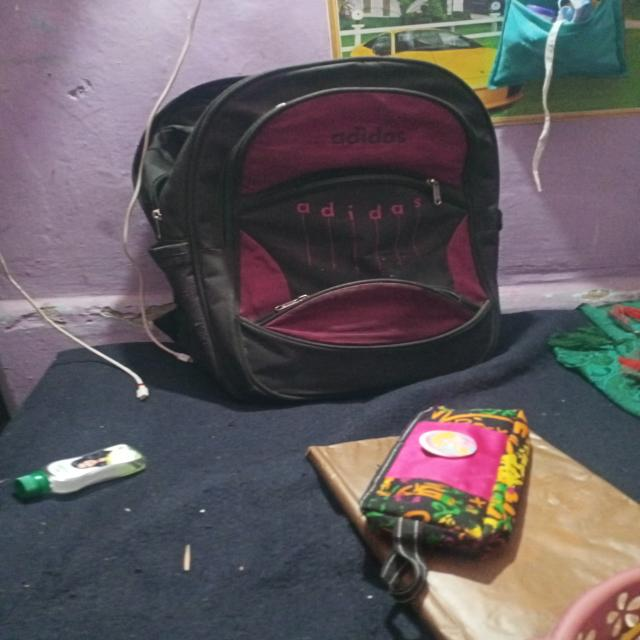suitcaserotation: (126, 52, 507, 408)
